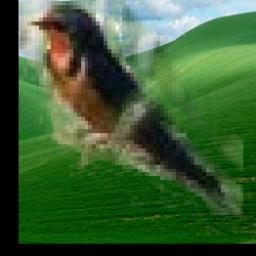Swallow: (21, 0, 244, 216)
